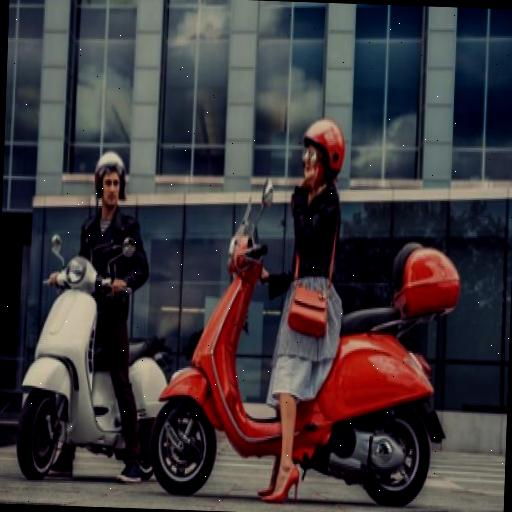helmet: (176, 102, 350, 492), (12, 134, 168, 484)
